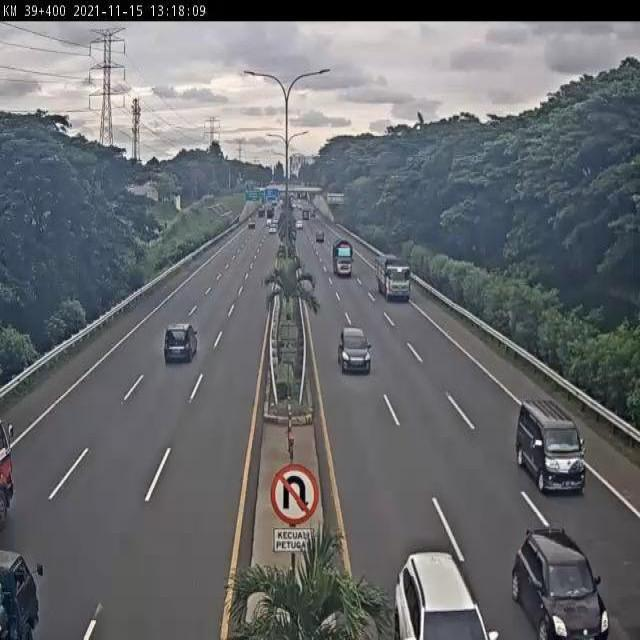car: (510, 524, 613, 640), (515, 399, 587, 492), (338, 325, 372, 375), (163, 321, 199, 364)
truck: (374, 252, 413, 301), (331, 239, 355, 280)
